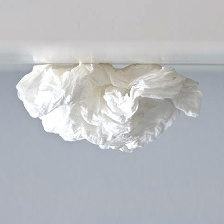tissue: (10, 55, 208, 158)
